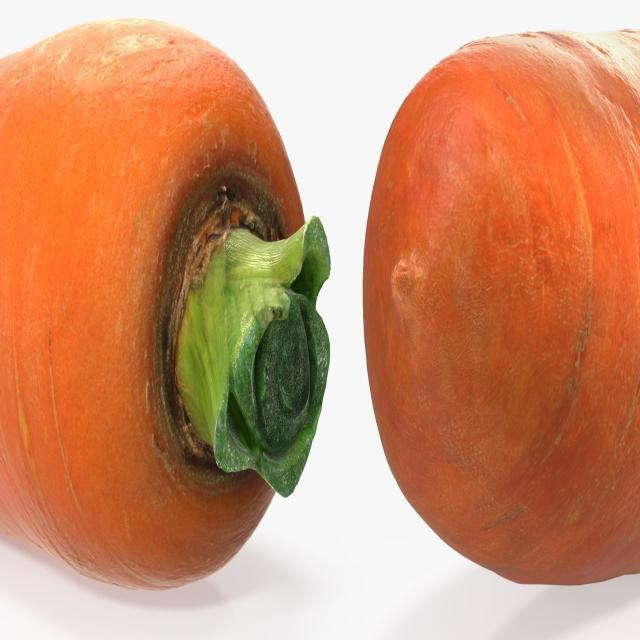carrot: (1, 18, 335, 585)
